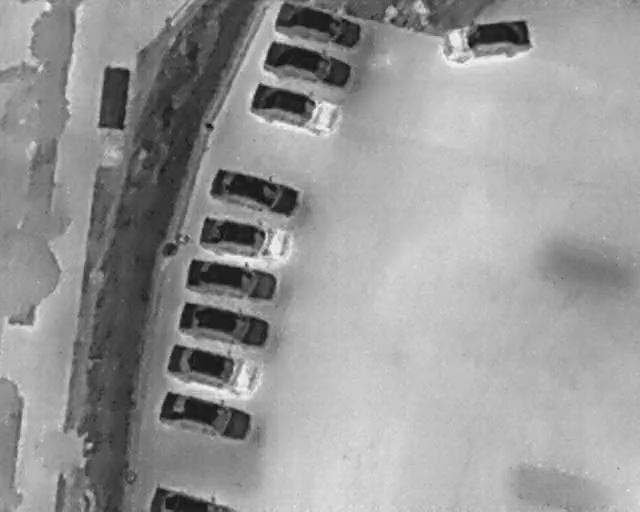Car: (241, 75, 345, 144), (153, 385, 257, 452), (160, 335, 264, 402), (257, 32, 359, 97), (204, 160, 307, 223), (173, 295, 275, 355), (181, 251, 283, 310), (194, 209, 296, 268), (273, 0, 364, 55), (436, 17, 535, 67), (147, 483, 238, 511)
